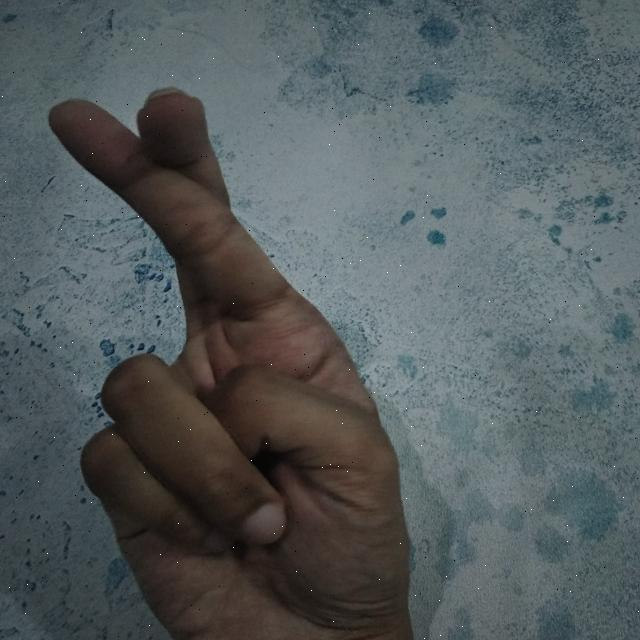R: (36, 78, 424, 640)
